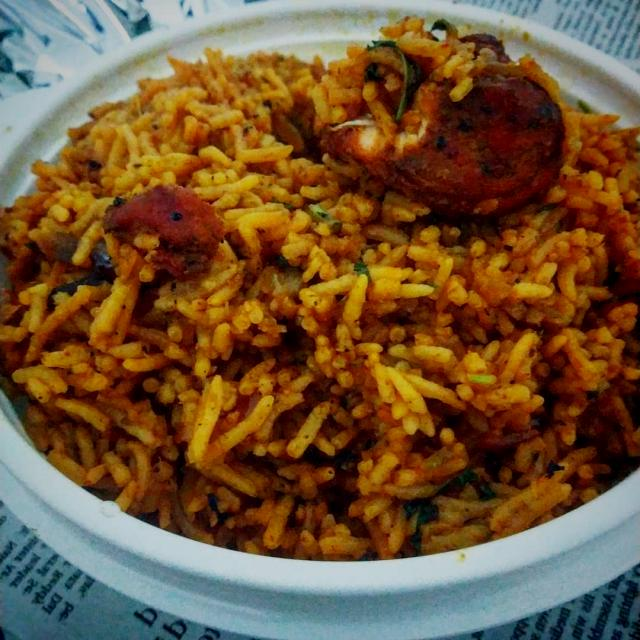biryani: (53, 38, 615, 598)
